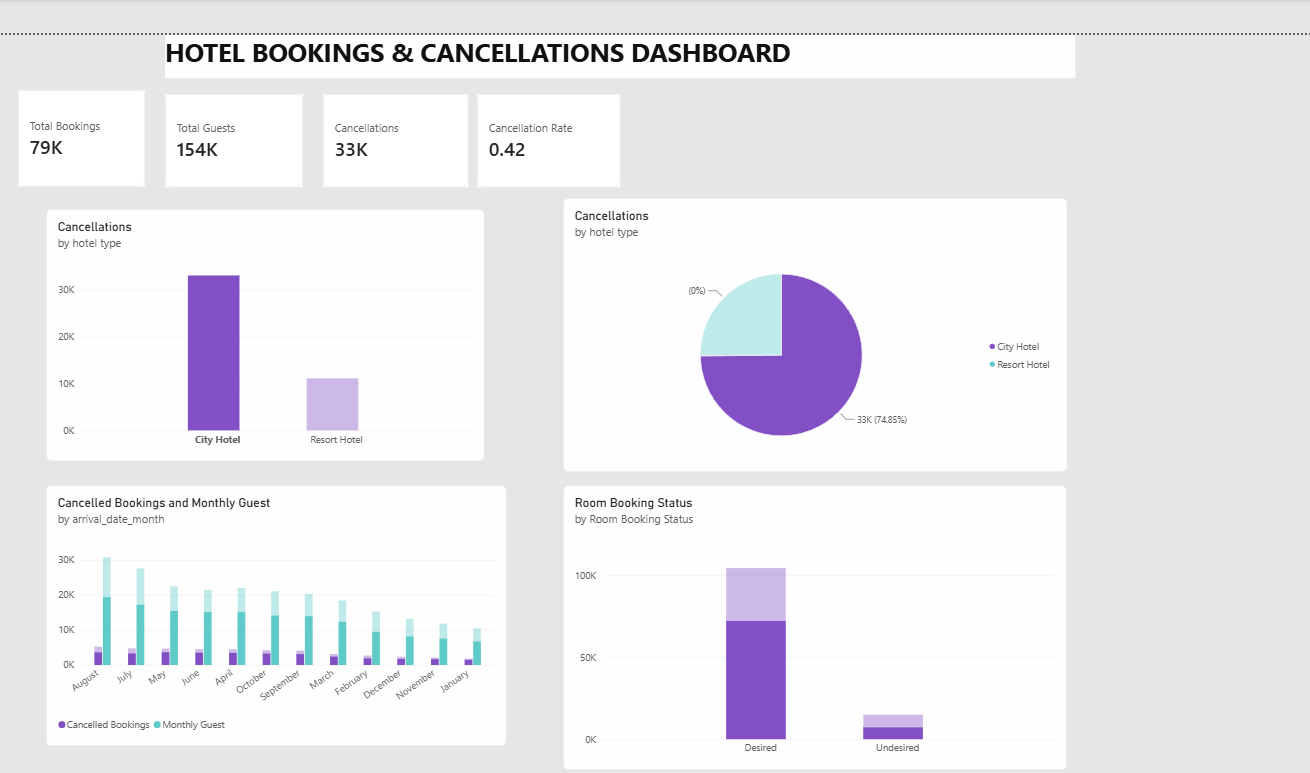

The page's visual inventory and layout, read from the dashboard file:
{"tool":"powerbi","page":{"name":"Page 1","canvas":[1920,1080],"ordinal":0},"visuals":[{"type":"pieChart","fields":{"Category":["hotel_bookings.hotel"],"Y":["hotel_bookings.Total Cancellations"]},"box":[821.4,237.8,736,400],"z":0},{"type":"clusteredColumnChart","fields":{"Category":["hotel_bookings.hotel"],"Y":["hotel_bookings.Total Cancellations"]},"box":[67.1,253.9,640,368],"z":1000},{"type":"clusteredColumnChart","fields":{"Category":["hotel_bookings.arrival_date_month"],"Y":["hotel_bookings.Cancelled Bookings","hotel_bookings.Total Guests"]},"box":[67.1,656.5,672.1,380.6],"z":2000},{"type":"columnChart","fields":{"Category":["hotel_bookings.room_status"],"Y":["CountNonNull(hotel_bookings.room_status)"]},"box":[821.4,656.5,735.3,415.8],"z":3000},{"type":"cardVisual","fields":{"Data":["hotel_bookings.Total Bookings"]},"box":[26.3,80.2,185.4,141.5],"z":4000},{"type":"cardVisual","fields":{"Data":["hotel_bookings.Total Cancellations"]},"box":[471.2,86.1,211.6,135.7],"z":5000},{"type":"cardVisual","fields":{"Data":["hotel_bookings.Cancellation Rate"]},"box":[695.9,86.1,208.6,135.7],"z":6000},{"type":"textbox","box":[240,0,1328,112],"z":7000},{"type":"cardVisual","fields":{"Data":["hotel_bookings.Total Guests"]},"box":[240.7,86.1,201.3,135.7],"z":8000}]}

Visuals, with their boxes on the page's 1920x1080 design canvas (x1, y1, x2, y2). These are canvas units, not pixel positions in the 1310x773 screenshot, which may show the page scaled, cropped or inside an application window:
pieChart - hotel_bookings.hotel x hotel_bookings.Total Cancellations: l=821, t=238, r=1557, b=638
clusteredColumnChart - hotel_bookings.hotel x hotel_bookings.Total Cancellations: l=67, t=254, r=707, b=622
clusteredColumnChart - hotel_bookings.arrival_date_month x hotel_bookings.Cancelled Bookings: l=67, t=656, r=739, b=1037
columnChart - hotel_bookings.room_status x CountNonNull(hotel_bookings.room_status): l=821, t=656, r=1557, b=1072
cardVisual - hotel_bookings.Total Bookings: l=26, t=80, r=212, b=222
cardVisual - hotel_bookings.Total Cancellations: l=471, t=86, r=683, b=222
cardVisual - hotel_bookings.Cancellation Rate: l=696, t=86, r=904, b=222
textbox: l=240, t=0, r=1568, b=112
cardVisual - hotel_bookings.Total Guests: l=241, t=86, r=442, b=222
